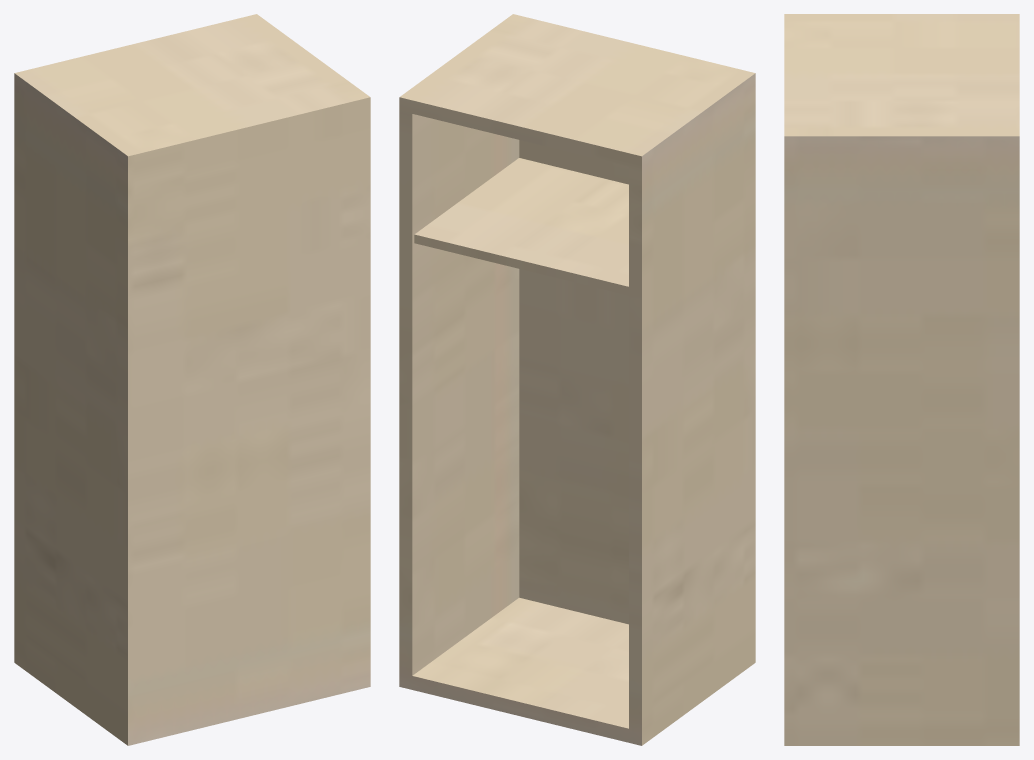
The model's file is Closet11.glb.
The picture shows the model from 3 angles, left to right: view 1: azimuth 30°, elevation 25°; view 2: azimuth 150°, elevation 25°; view 3: azimuth 270°, elevation 25°; orthographic projection. The views are drawn at different scales.
Visible parts, largest first — view 1: Closet11_model; view 2: Closet11_model; view 3: Closet11_model.
Part boxes in pixels (left/top/right/bottom): Closet11_model: left=14, top=14, right=370, bottom=745; Closet11_model: left=399, top=14, right=755, bottom=745; Closet11_model: left=784, top=14, right=1019, bottom=745.
Bounding box in the file's own units: 2.41 × 5.6 × 1.96.
1 material, 1 textured.
